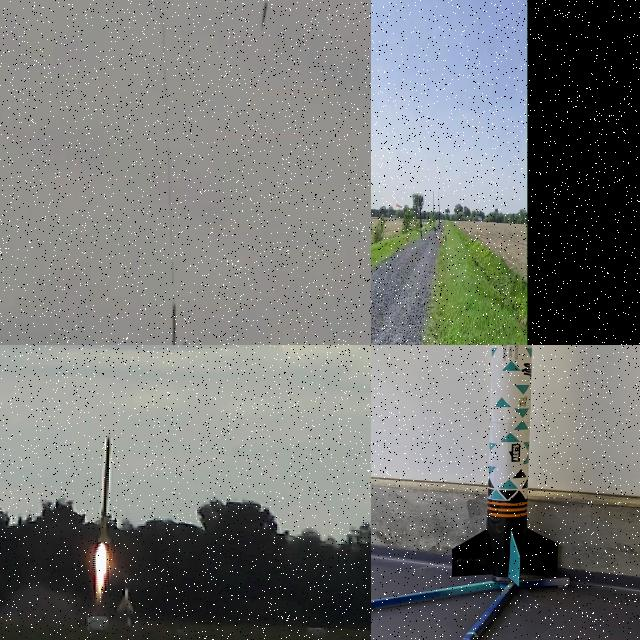Rocket: (452, 345, 558, 587), (97, 436, 114, 544), (115, 588, 135, 616), (172, 302, 178, 345), (420, 202, 422, 228)
